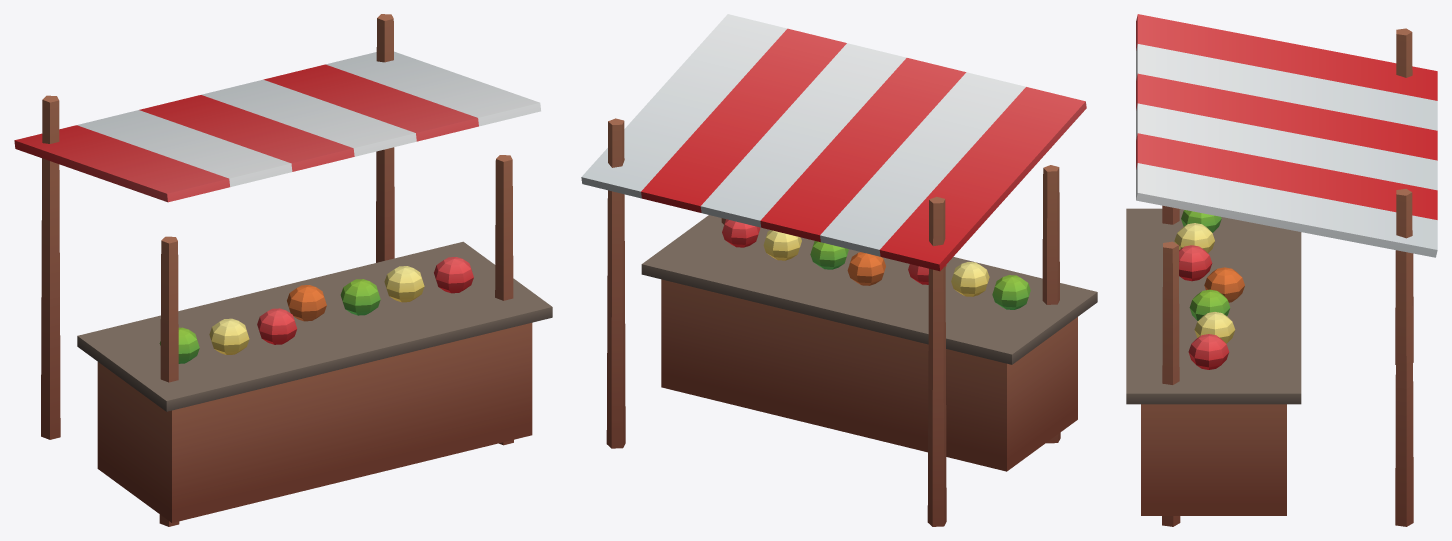
File: market_stall.glb
The picture shows the model from 3 angles, left to right: view 1: azimuth 30°, elevation 25°; view 2: azimuth 150°, elevation 25°; view 3: azimuth 270°, elevation 25°; orthographic projection. The views are drawn at different scales.
Parts seen in each view (by area): view 1: market_stall; view 2: market_stall; view 3: market_stall.
Boxes of the visible parts, bbox=[...] form: market_stall: bbox=[14, 14, 552, 526]; market_stall: bbox=[581, 14, 1097, 526]; market_stall: bbox=[1126, 14, 1437, 526].
Size of the model in its own units: 3 by 2.57 by 2.13.
Materials: 1 (1 with a texture image).
